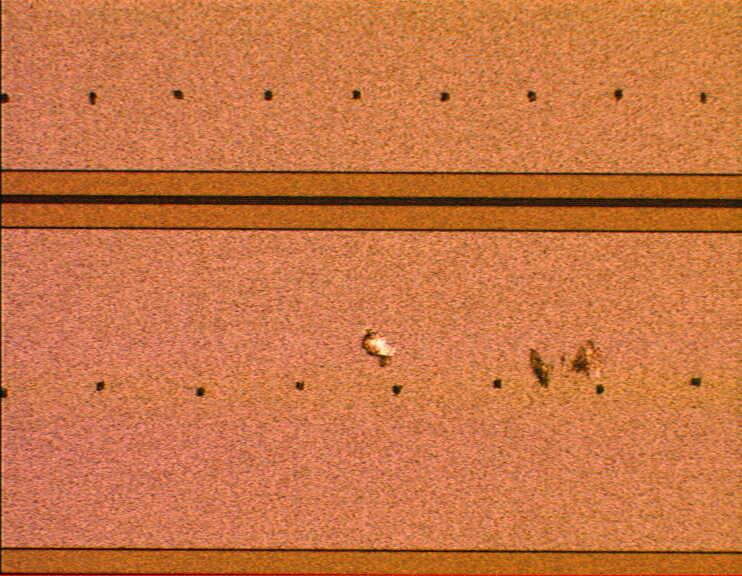SCRATCH: (350, 316, 621, 388)
